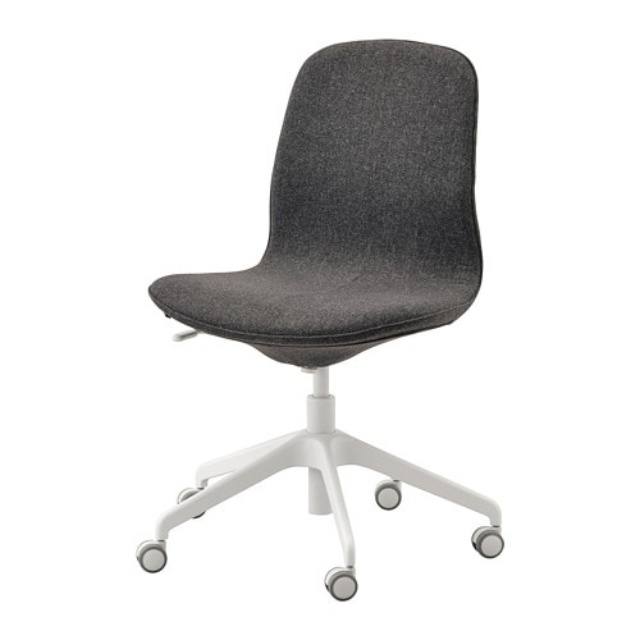obstacle: (137, 40, 503, 599)
